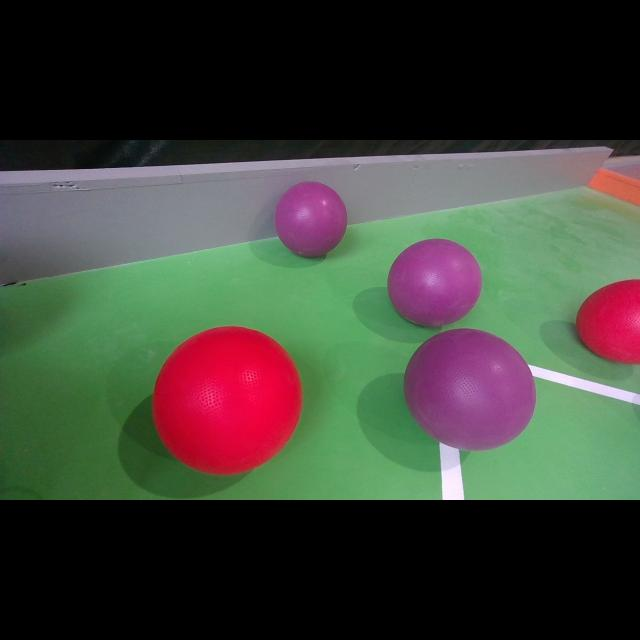P: (404, 328, 536, 452), (387, 239, 483, 329), (274, 181, 348, 257)
R: (153, 326, 303, 476), (574, 273, 640, 381)
